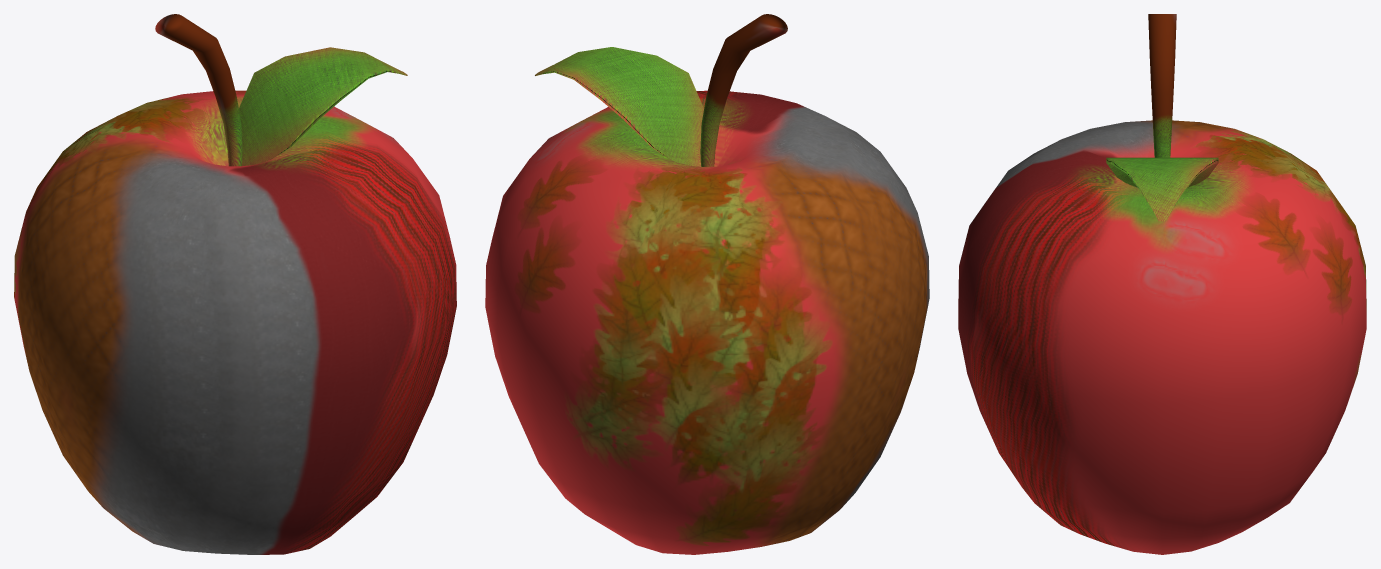
The model's file is Apple.fbx.
3 views of the same model, side by side, from view 1: azimuth 30°, elevation 25°; view 2: azimuth 150°, elevation 25°; view 3: azimuth 270°, elevation 25° (orthographic). The views are drawn at different scales.
Visible parts, largest first — view 1: Apple, apple_leaf; view 2: Apple, apple_leaf; view 3: Apple, apple_leaf.
Boxes of the visible parts, bbox=[...] form: Apple: bbox=[14, 14, 456, 554]; apple_leaf: bbox=[239, 47, 407, 166]; Apple: bbox=[485, 14, 929, 554]; apple_leaf: bbox=[535, 47, 703, 166]; Apple: bbox=[958, 14, 1366, 554]; apple_leaf: bbox=[1106, 157, 1218, 221].
Size of the model in its own units: 0.5456 by 0.7037 by 0.5398.
